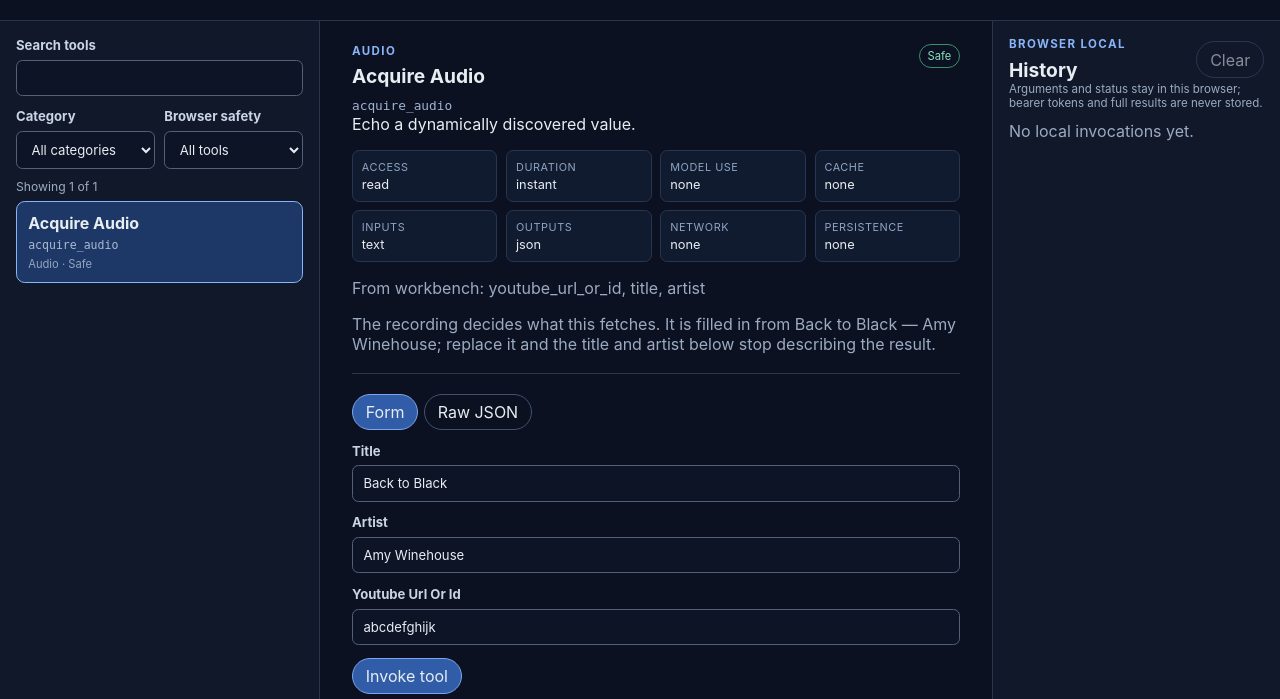
ToolStudio › warns when the pasted recording is not the one the workbench song names
This screenshot has width=1280, height=699.
(page scrolled)
Replace the text in the field labelled "Youtube Url Or Id" with "https://www.youtube.com/watch?v=RNCH0xA-hNY&list=RDRNCH0xA-hNY": x=656, y=627 [352,608,960,645]
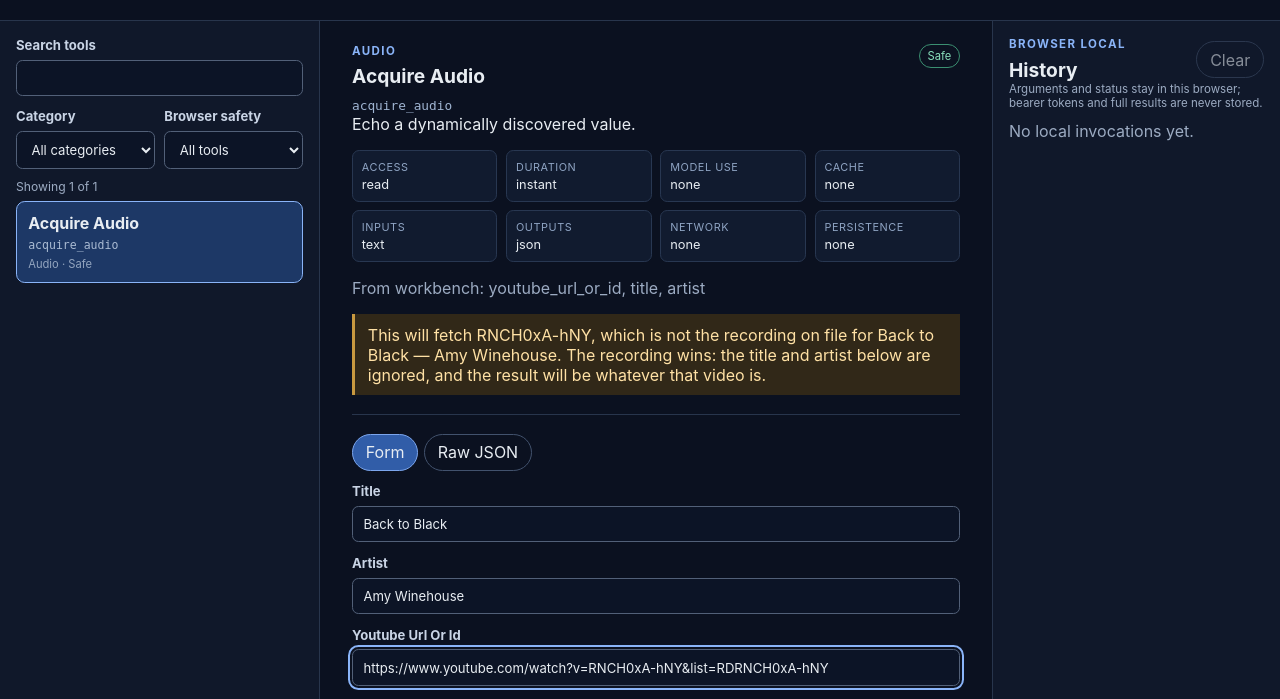
Expected: the message shows "RNCH0xA-hNY", [368,324,934,384]
Expected: the message shows "Back to Black", [368,324,934,384]
